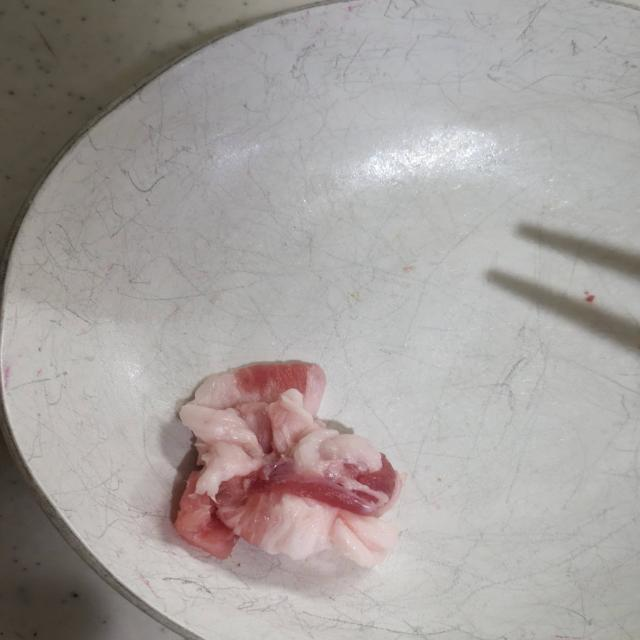NG raw pork,: (156, 354, 405, 574)
